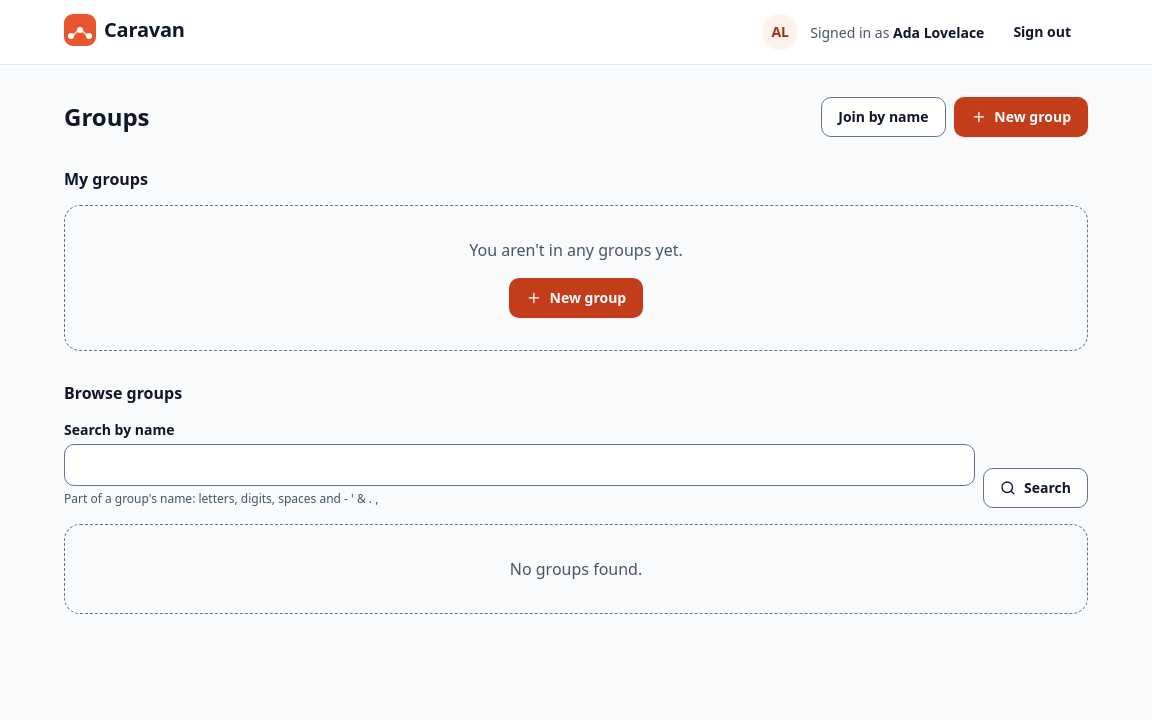
Test case: signing in and out › signs out and returns to the sign-in form
Click the button "Sign out".
click(1042, 32)  # box [996, 12, 1088, 52]
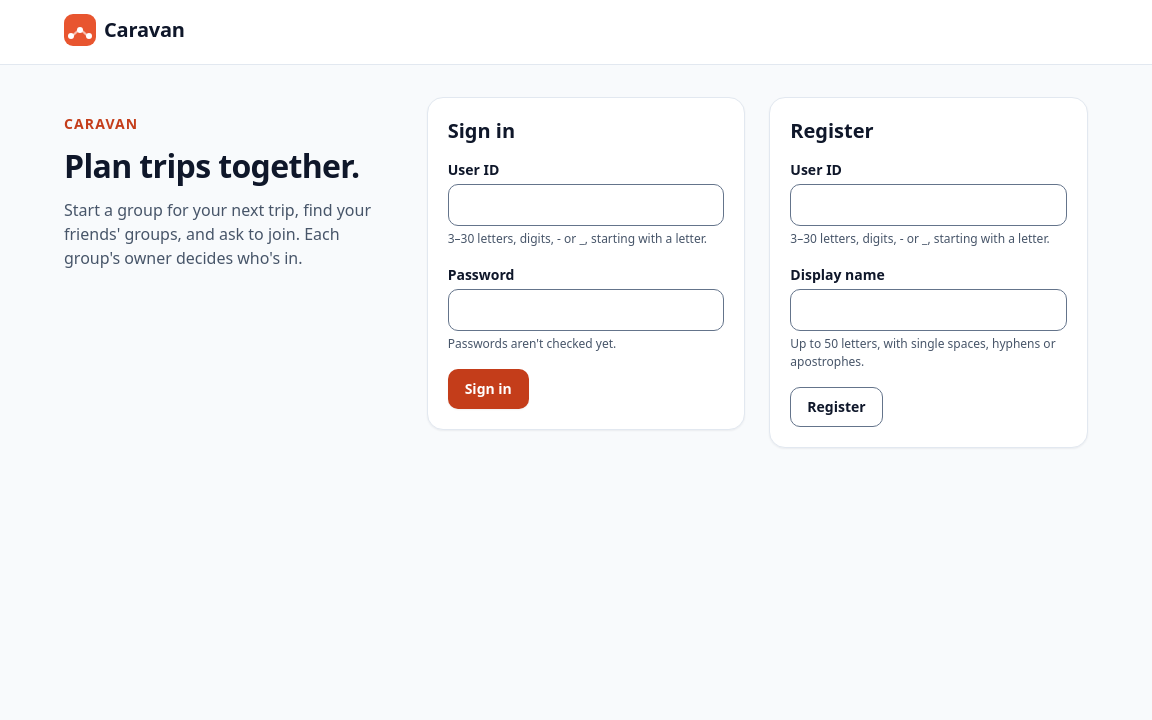
expect the form "Sign in" is shown: met, box [427, 97, 745, 430]
